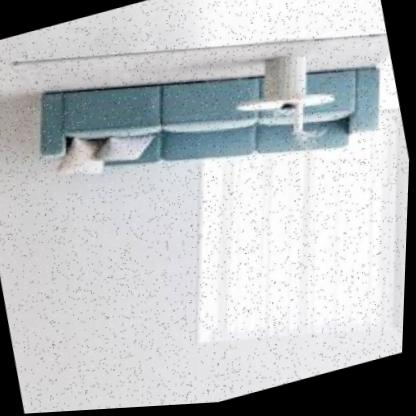Sofa: (3, 0, 414, 256)
